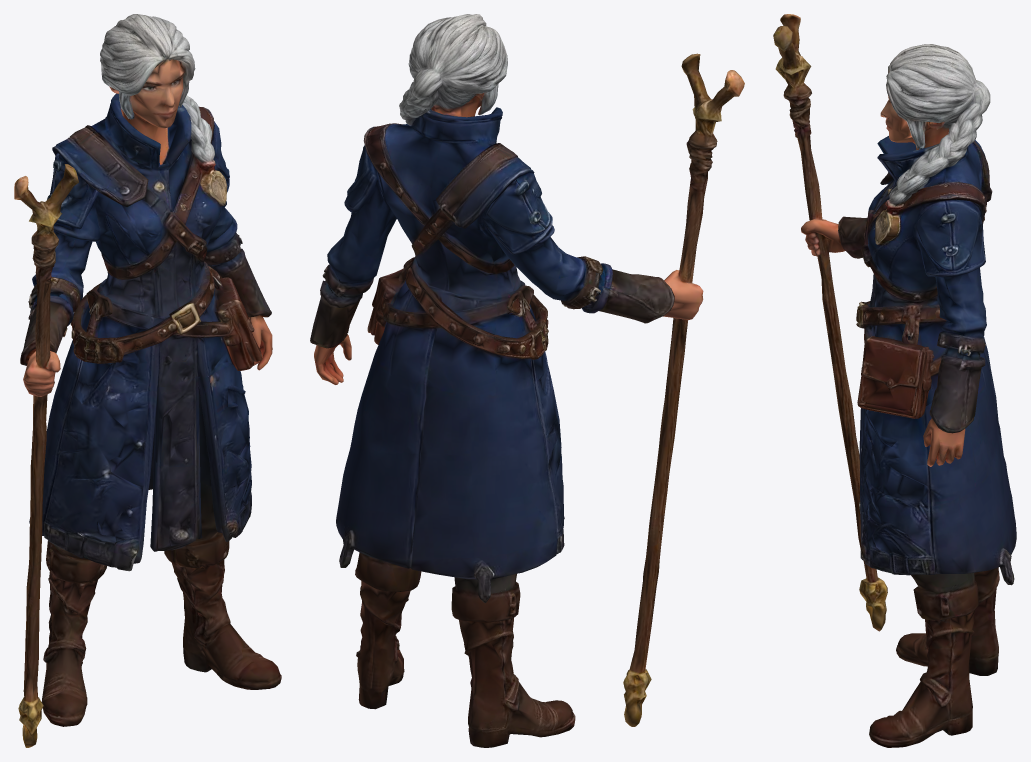
File: lyra154.glb
3 views of the same model, side by side, from view 1: azimuth 30°, elevation 25°; view 2: azimuth 150°, elevation 25°; view 3: azimuth 270°, elevation 25° (orthographic). The views are drawn at different scales.
Parts seen in each view (by area): view 1: tripo_node_abc6215d-6fe7-43d5-bd49-23b6403a9be1; view 2: tripo_node_abc6215d-6fe7-43d5-bd49-23b6403a9be1; view 3: tripo_node_abc6215d-6fe7-43d5-bd49-23b6403a9be1.
Boxes of the visible parts, box(x1,y1,x2,y2) form: tripo_node_abc6215d-6fe7-43d5-bd49-23b6403a9be1: box(14, 14, 281, 747); tripo_node_abc6215d-6fe7-43d5-bd49-23b6403a9be1: box(310, 14, 744, 747); tripo_node_abc6215d-6fe7-43d5-bd49-23b6403a9be1: box(773, 14, 1016, 747).
Bounding box in the file's own units: 0.5079 × 0.9792 × 0.3323.
1 material, 1 textured.
